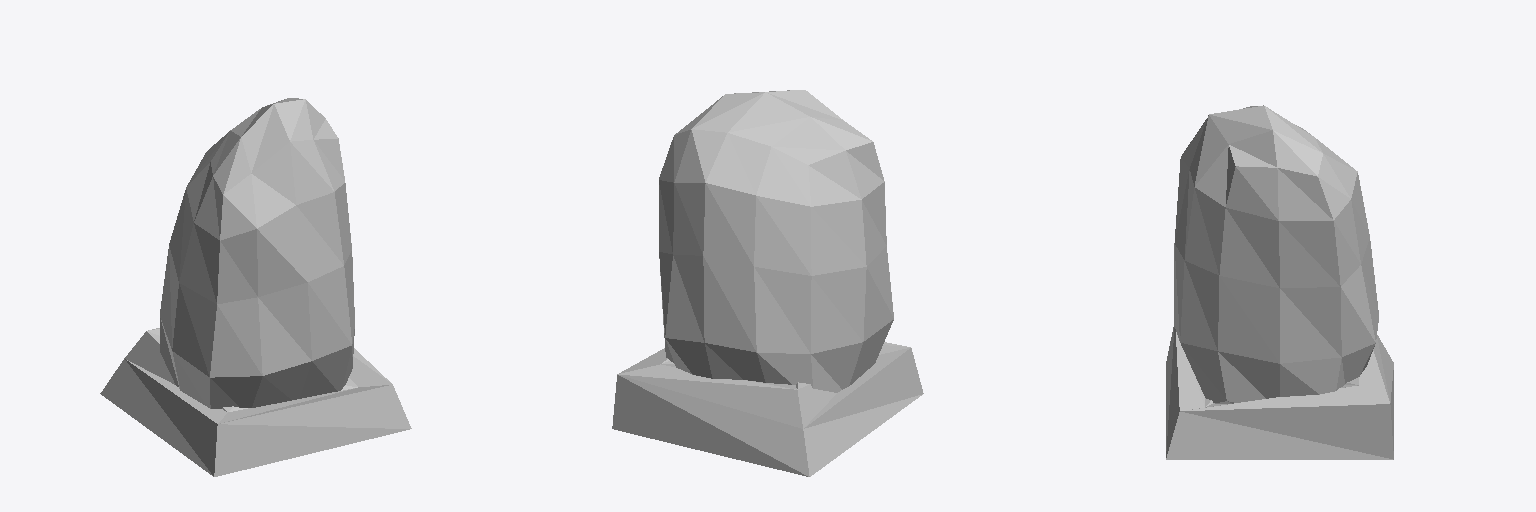
Rendered from UnfinishedIdol.obj.
The picture shows the model from 3 angles: view 1: azimuth 30°, elevation 25°; view 2: azimuth 150°, elevation 25°; view 3: azimuth 270°, elevation 25°; orthographic projection.
Parts seen in each view (by area): view 1: Cube, Pedestal; view 2: Cube, Pedestal; view 3: Cube, Pedestal.
Part boxes in pixels (x1,y1,x2,y2): Cube: (160,98,354,408); Pedestal: (100,328,411,476); Cube: (659,90,893,392); Pedestal: (612,342,923,476); Cube: (1174,105,1378,403); Pedestal: (1166,326,1393,459).
Size of the model in its own units: 2 by 3.01 by 2.